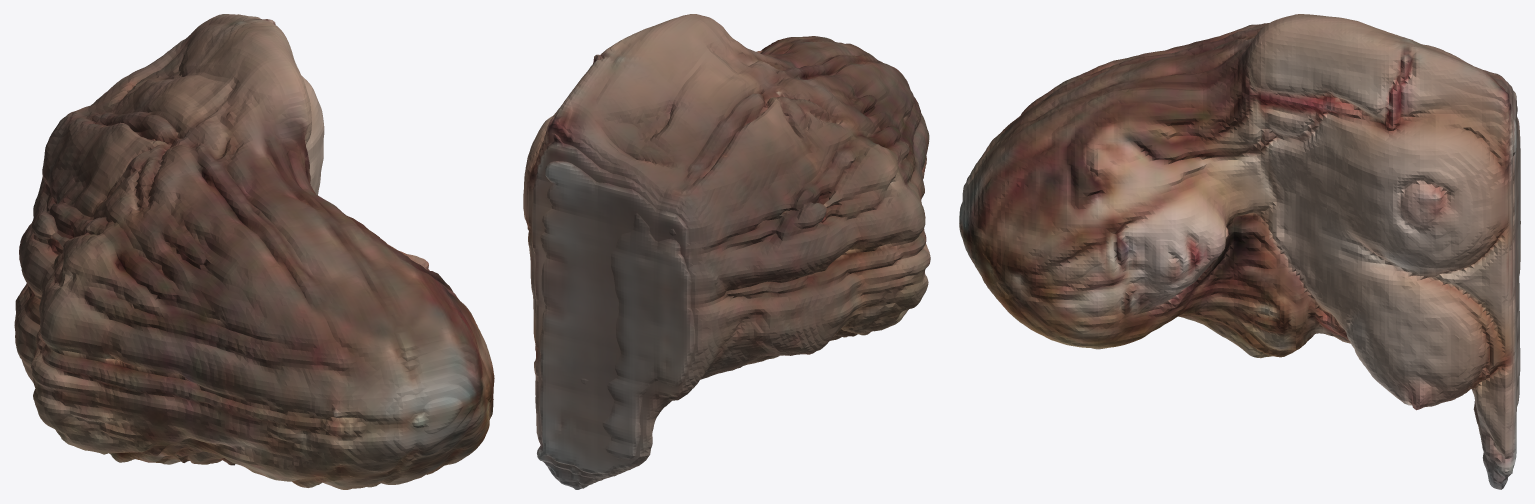
The picture shows the model from 3 angles, left to right: view 1: azimuth 30°, elevation 25°; view 2: azimuth 150°, elevation 25°; view 3: azimuth 270°, elevation 25°; orthographic projection. The views are drawn at different scales.
Visible parts, largest first — view 1: world; view 2: world; view 3: world.
Part boxes in pixels (x1,y1,x2,y2): world: (14,14,494,489); world: (523,14,930,489); world: (959,14,1520,489).
Size of the model in its own units: 0.7046 by 0.8918 by 0.9882.
